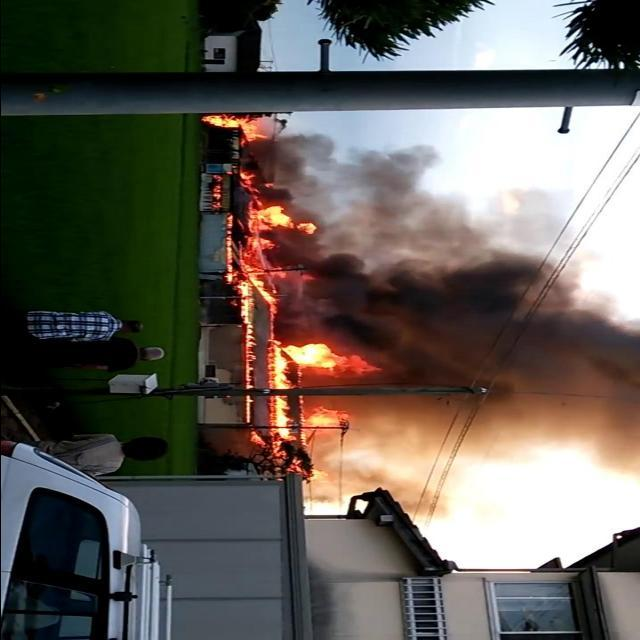Fire: (236, 164, 316, 304), (266, 338, 354, 438), (250, 431, 320, 484), (240, 288, 258, 422), (205, 115, 263, 141), (224, 213, 237, 286), (268, 304, 282, 336), (212, 171, 222, 207)
